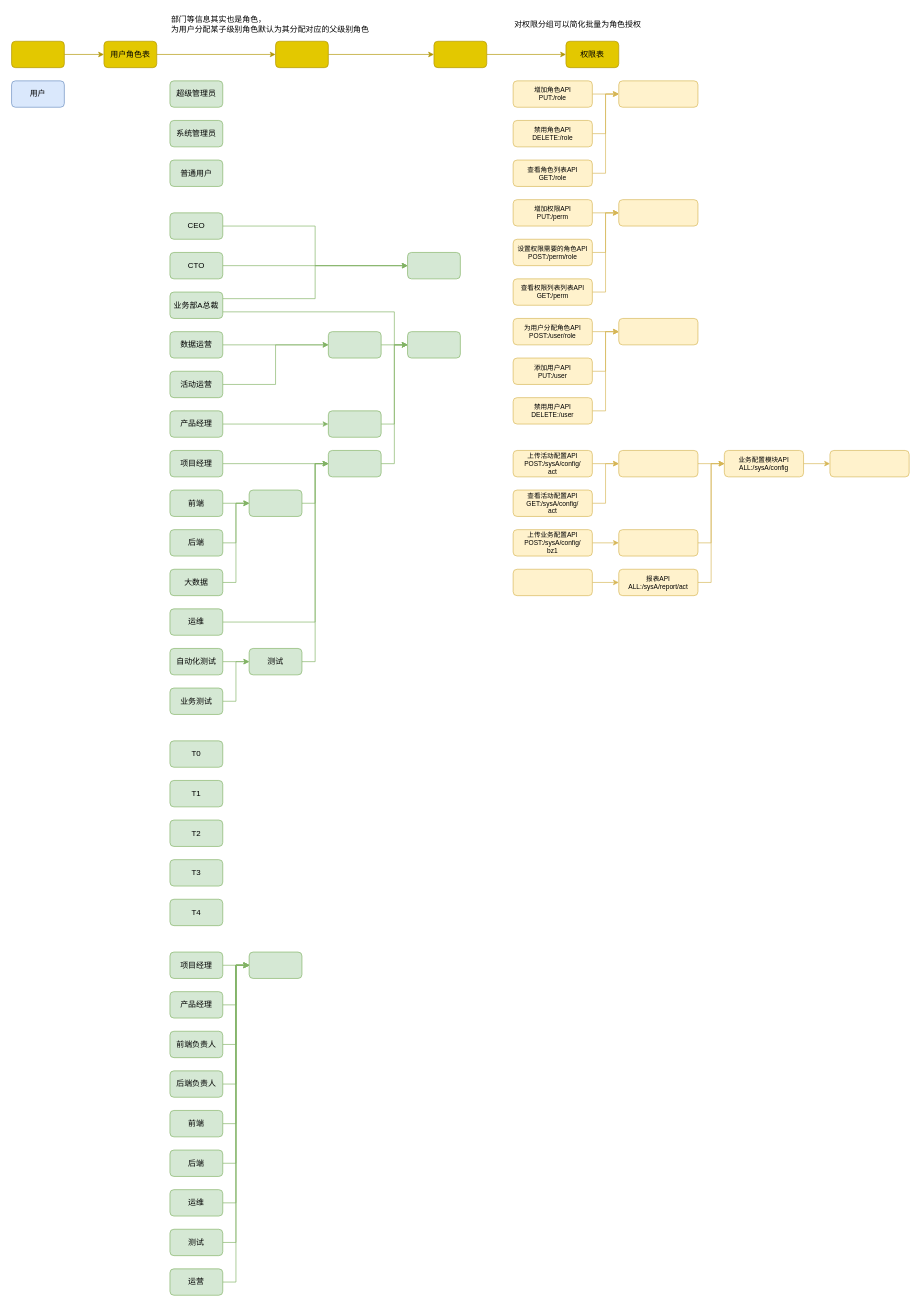
This 921x1307 diagram has some shape labels left out. The shapes that lost their labels are listed below. From the top down, each one's centre as x and y in pixels, then its label:
At (37,54): "用户表".
At (301,54): "角色表".
At (460,54): "权限角色表".
At (658,93): "角色管理API ALL:/role".
At (658,212): "权限管理API ALL:/perm".
At (433,265): "总经理办公室".
At (354,344): "运营部".
At (433,344): "业务部A".
At (658,331): "用户管理API ALL:/user".
At (354,423): "产品部".
At (354,463): "研发部".
At (658,463): "活动API ALL:/sysA/config/act".
At (869,463): "系统API ALL:/sysA".
At (275,502): "开发".
At (658,542): "活动API ALL:/sysA/config/bz1".
At (552,582): "查看活动运营报表API GET:/sysA/report/ act".
At (275,964): "业务线A".
